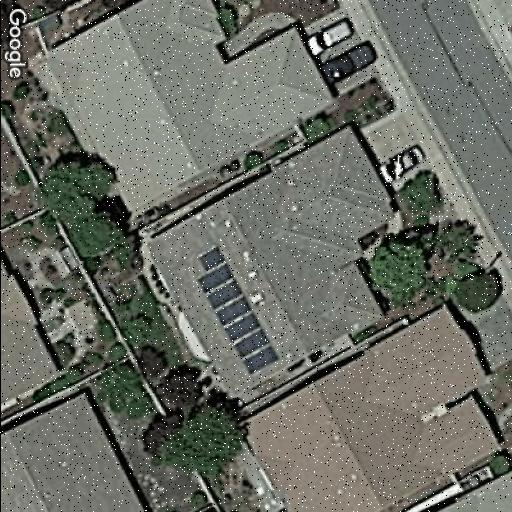solar-panel: (197, 246, 277, 378)
